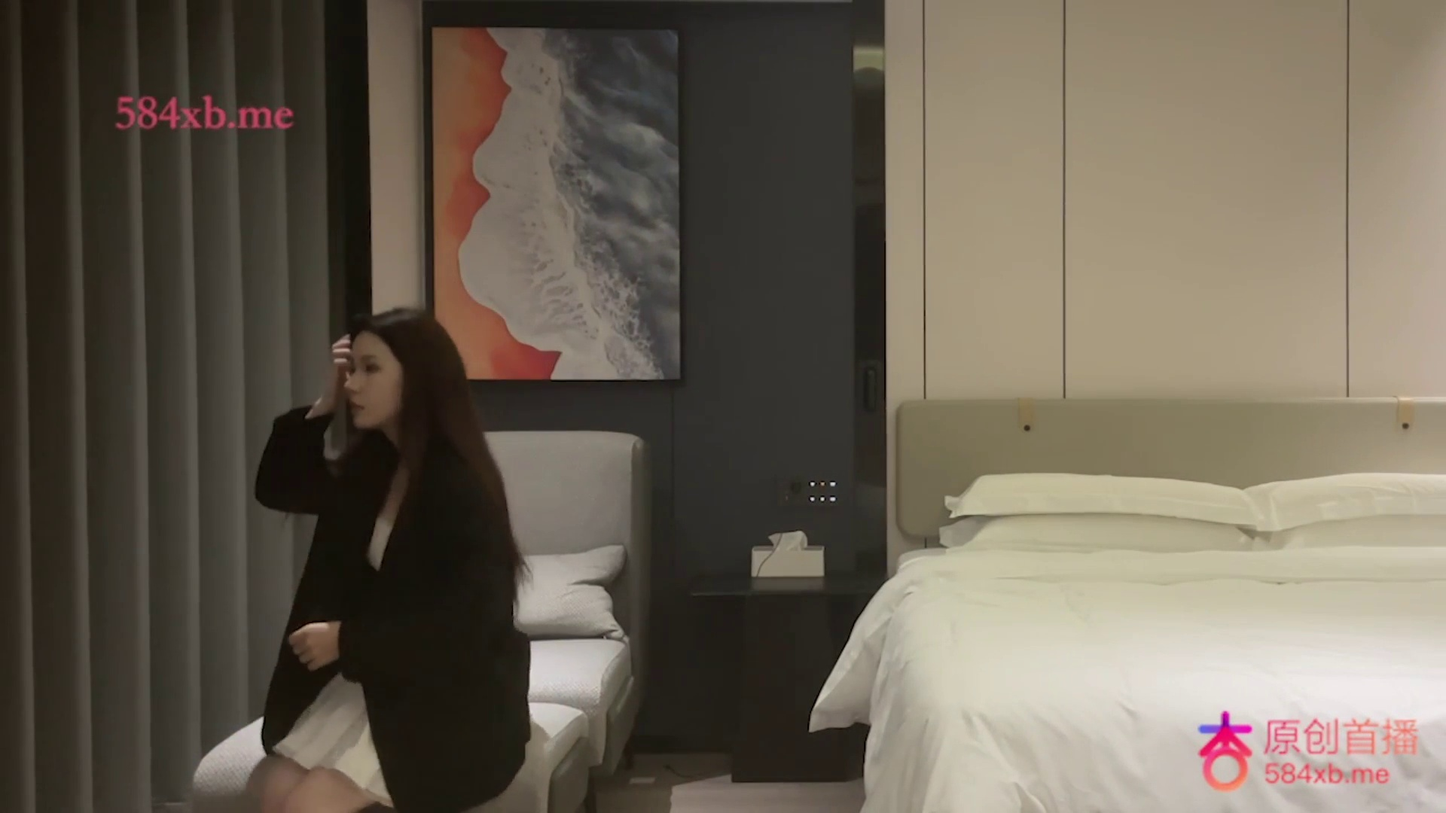sit: (246, 306, 534, 809)
